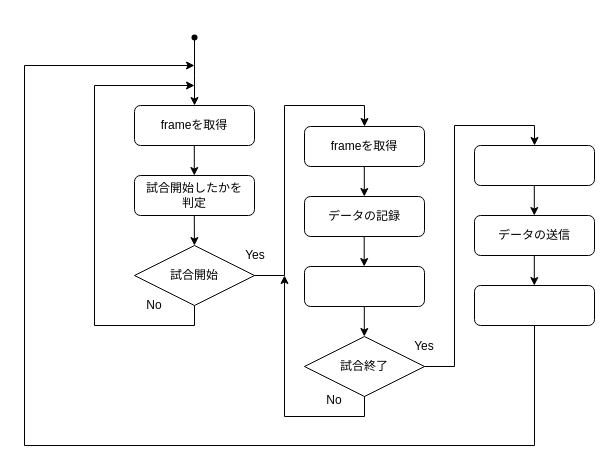
The diagram is 612 pixels wide and 471 high, and some of its shapes have lost their labels. The shapes that lost their labels are listed below. From the top down, each one's centre as x and y in pixels, then its label:
[534,165]: データの分析
[364,286]: 試合終了したかを 判定
[534,305]: データリセット
